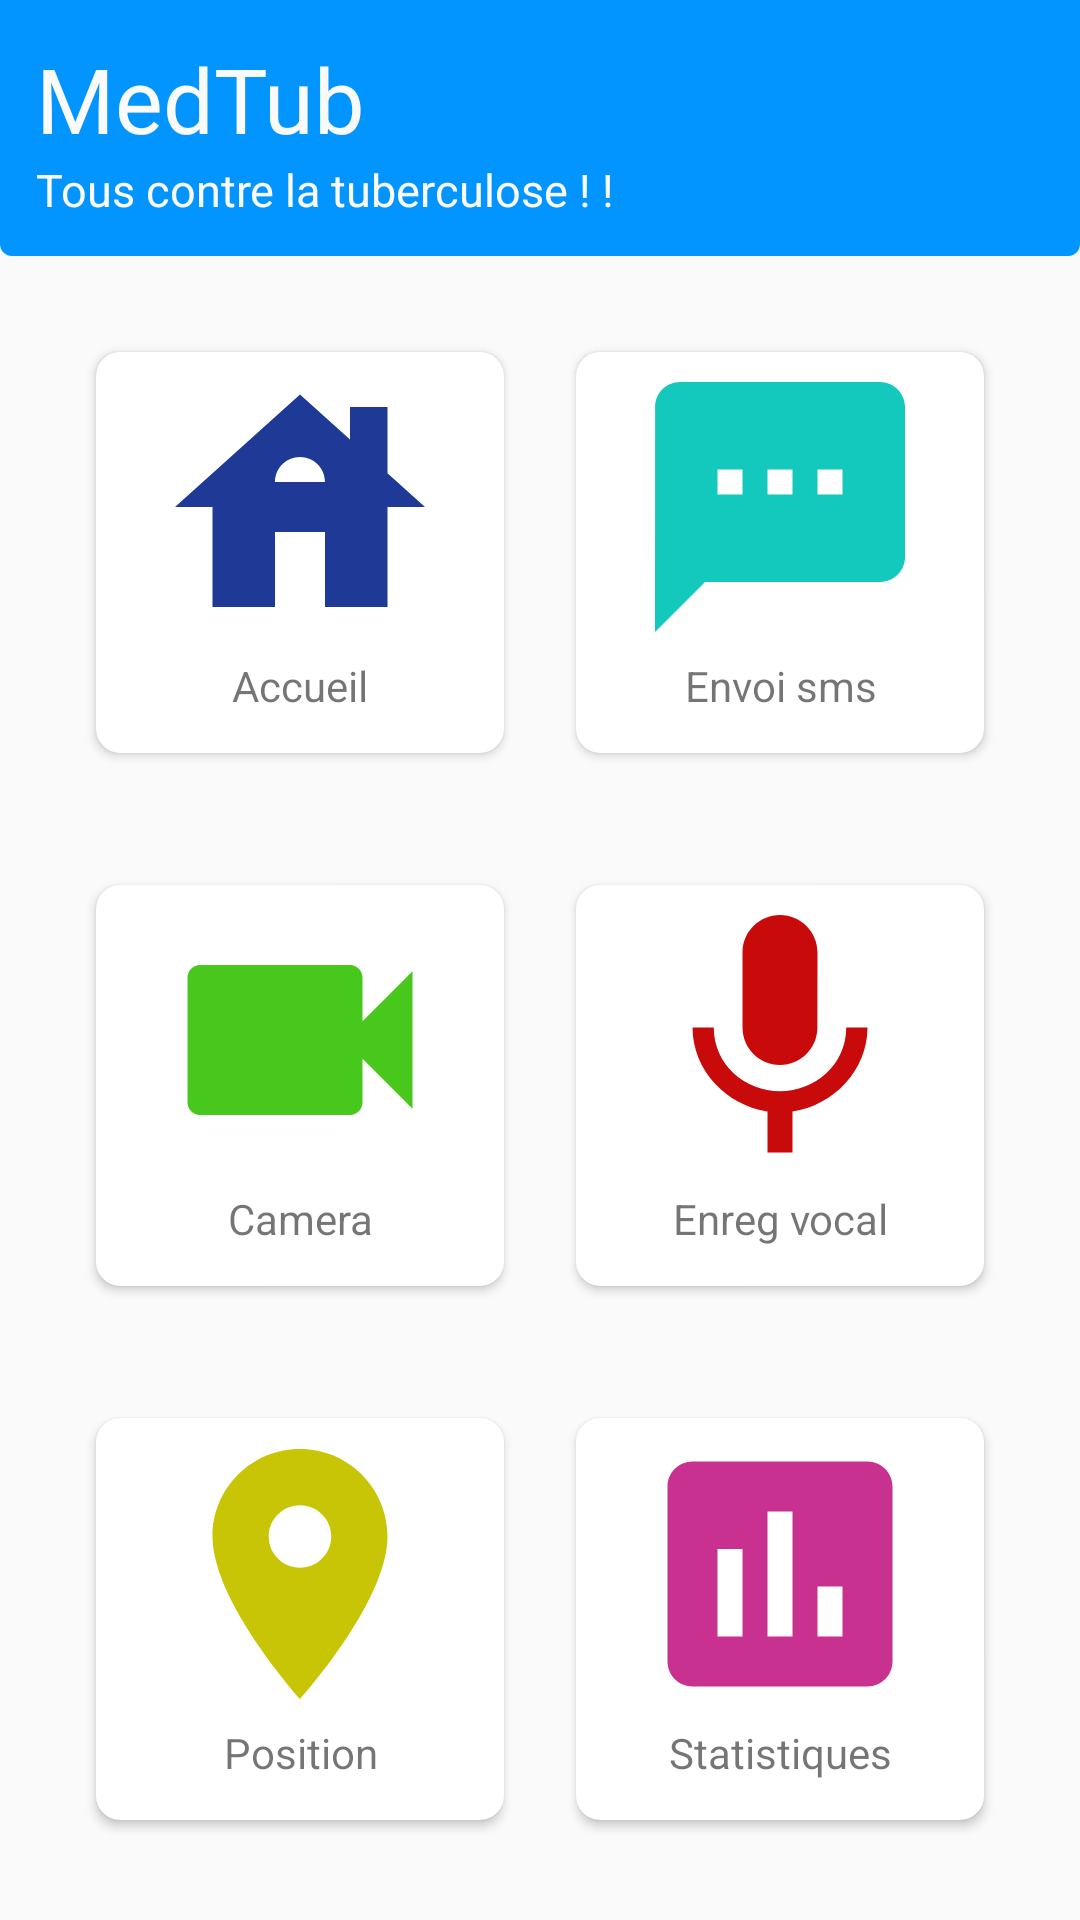

Named icons in this screenshot (1080px×1920px) and their centers, point (x, y):
assessment: point (780, 1574)
mic: point (780, 1034)
